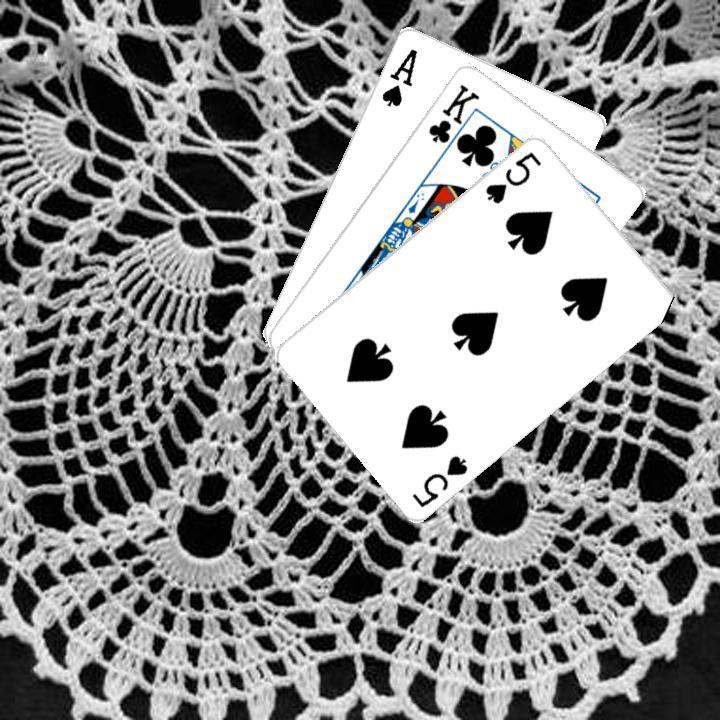5: (480, 146, 543, 206), (407, 450, 471, 509)
A: (377, 43, 419, 108)
K: (424, 79, 482, 158)
